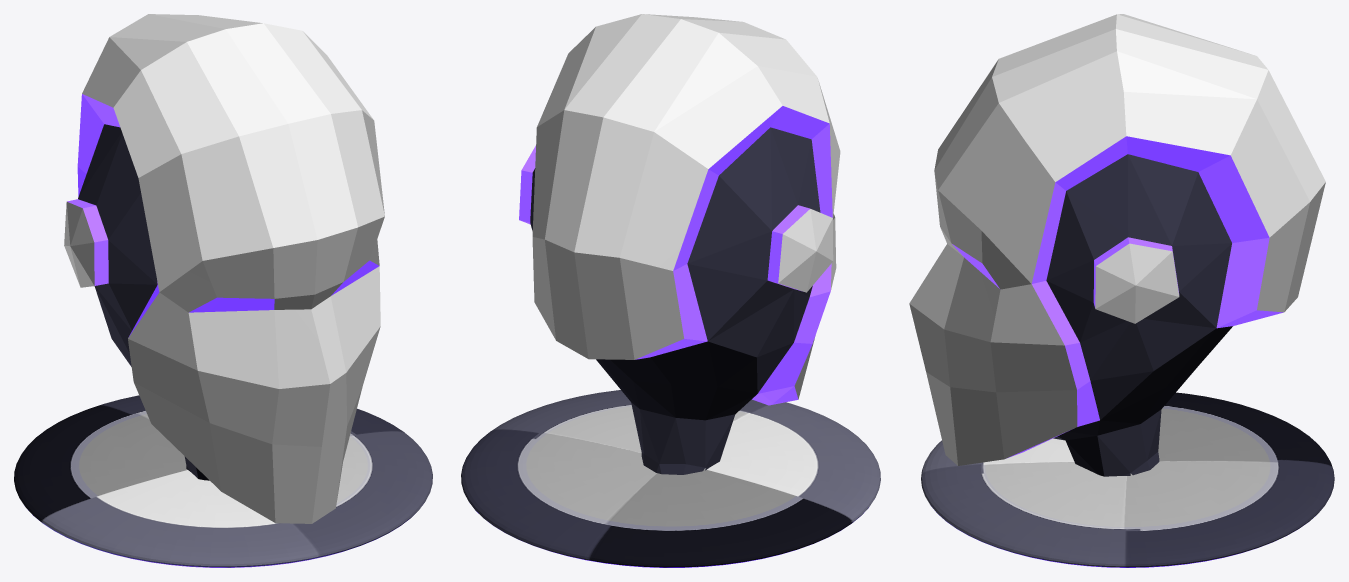
File: robot_head.glb
3 renders of one model, left to right at view 1: azimuth 30°, elevation 25°; view 2: azimuth 150°, elevation 25°; view 3: azimuth 270°, elevation 25°, orthographic.
Visible parts, largest first — view 1: Object_7, Sphere; view 2: Object_7, Sphere; view 3: Object_7, Sphere.
Part boxes in pixels (box(x1,y1,x2,y2)): Object_7: box(64, 14, 384, 523); Sphere: box(14, 395, 432, 567); Object_7: box(519, 14, 840, 474); Sphere: box(461, 390, 880, 567); Object_7: box(909, 14, 1325, 476); Sphere: box(921, 392, 1334, 567).
Size of the model in its own units: 0.3058 by 0.3915 by 0.3145.
1 material, 1 textured.
